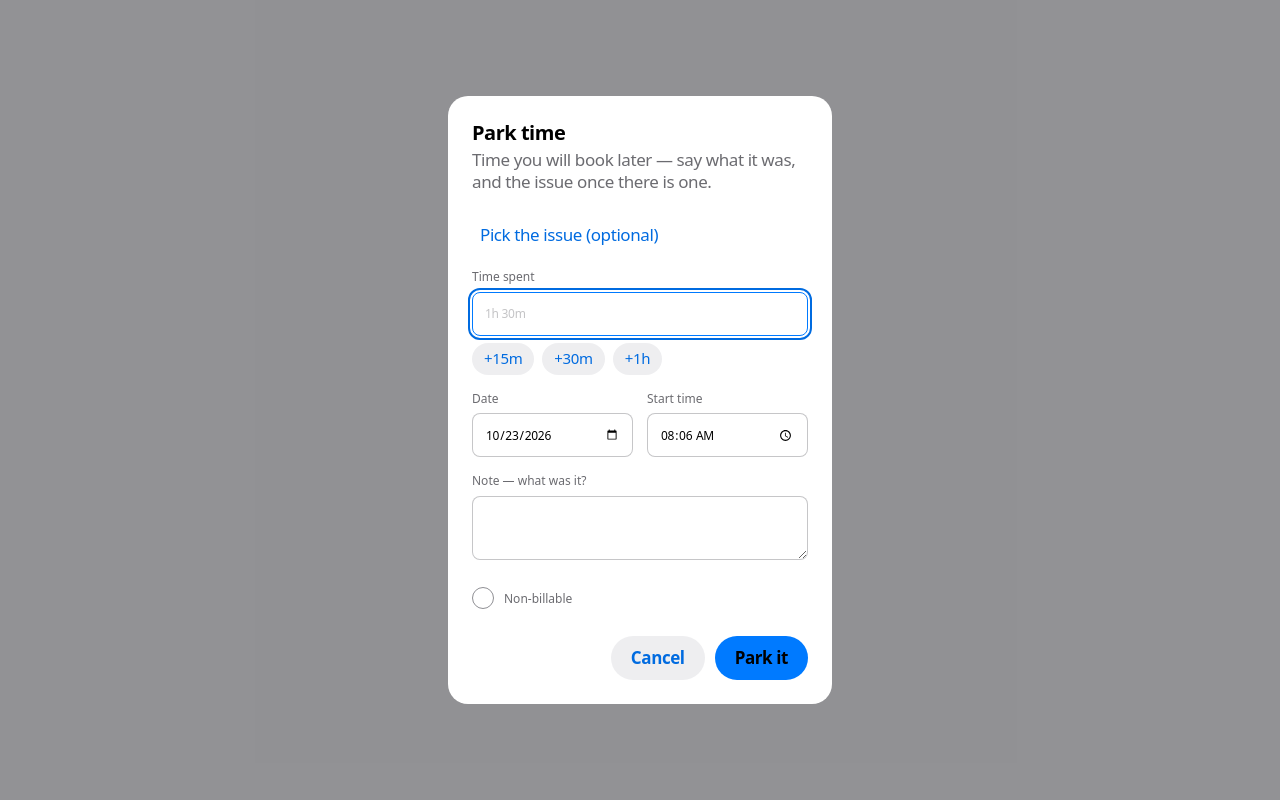
Test: the park form › says why it will not park time with nothing to go by
Step 1. Type "30m" into the field labelled "Time spent" → (640, 314), box [472,292,808,336]
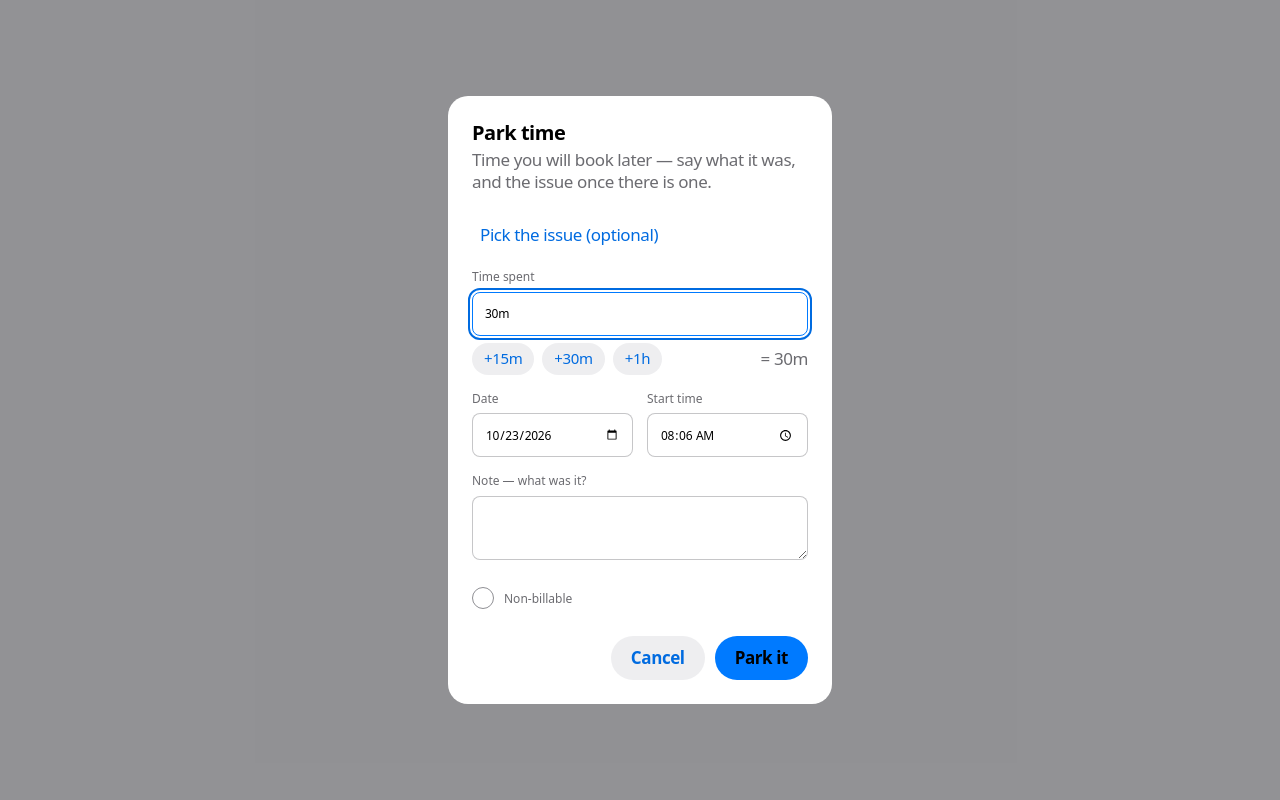
Step 2. Click the button "Park it" → (761, 658), box [715,636,808,680]
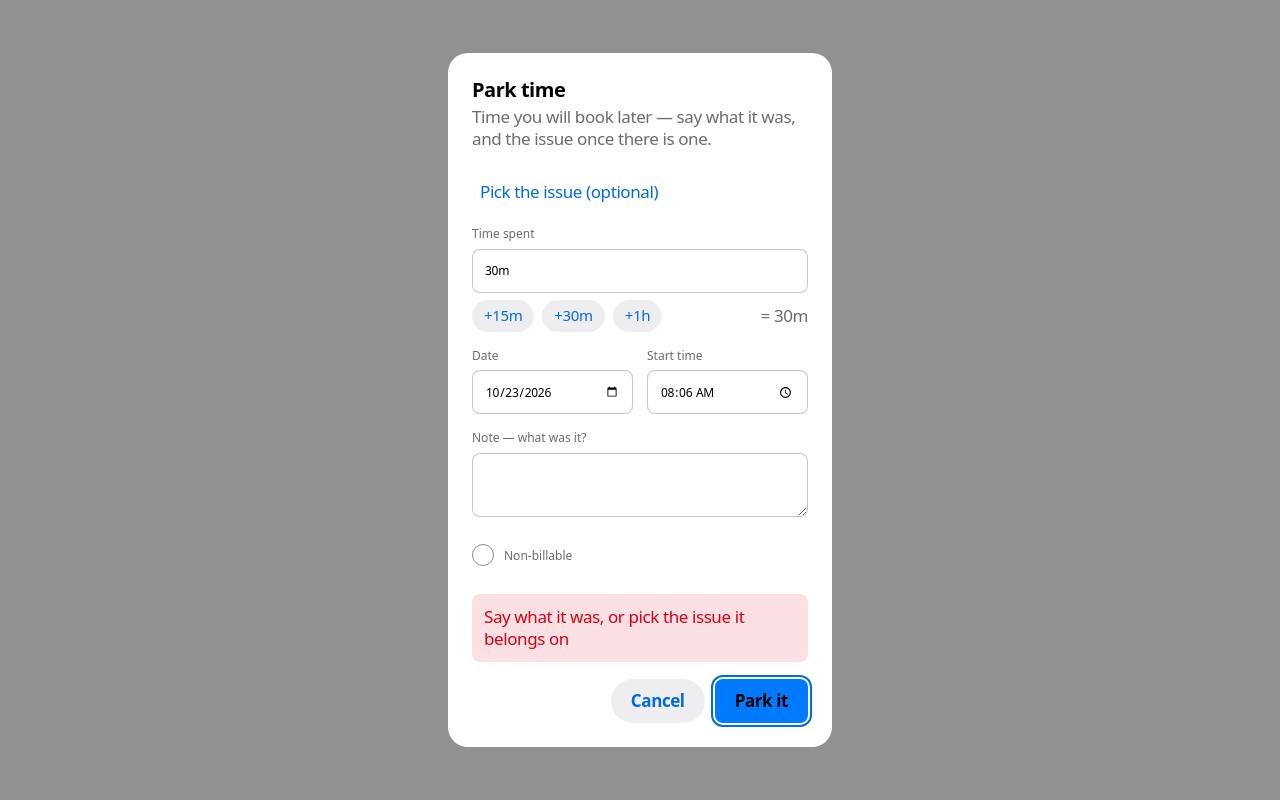
Check: the text "Say what it was, or pick the issue it belongs on" is shown, box [472,594,808,662]
